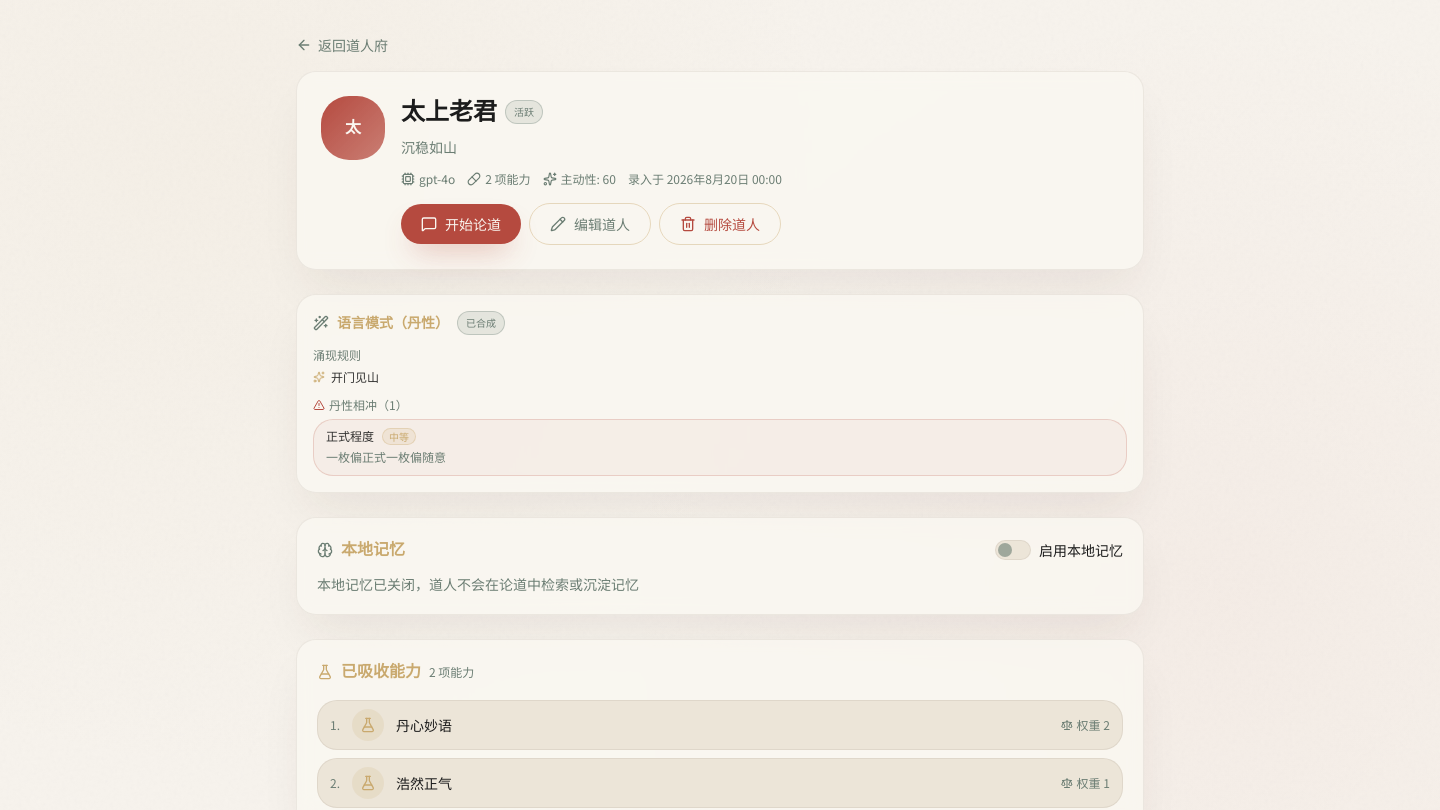
Test: AgentDetailPage › 编辑态 › 保存失败:错误反馈可重试且草稿不丢
The image size is (1440, 810).
Step 1. Click the button "编辑道人" → x=590, y=224, box [529, 203, 651, 245]
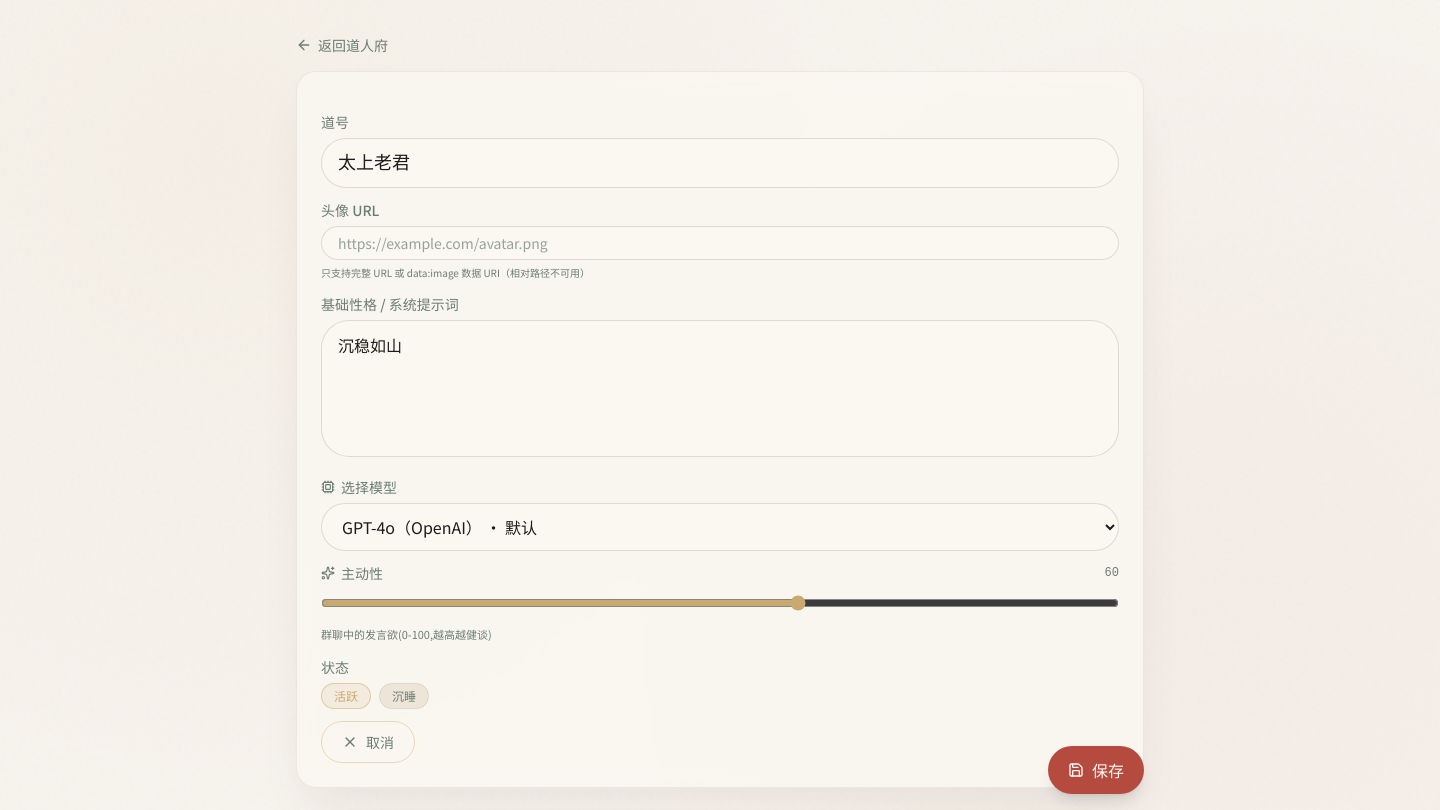
Step 2. Replace the text in the field showing "太上老君" with "新名字" → x=720, y=163, box [321, 138, 1119, 188]
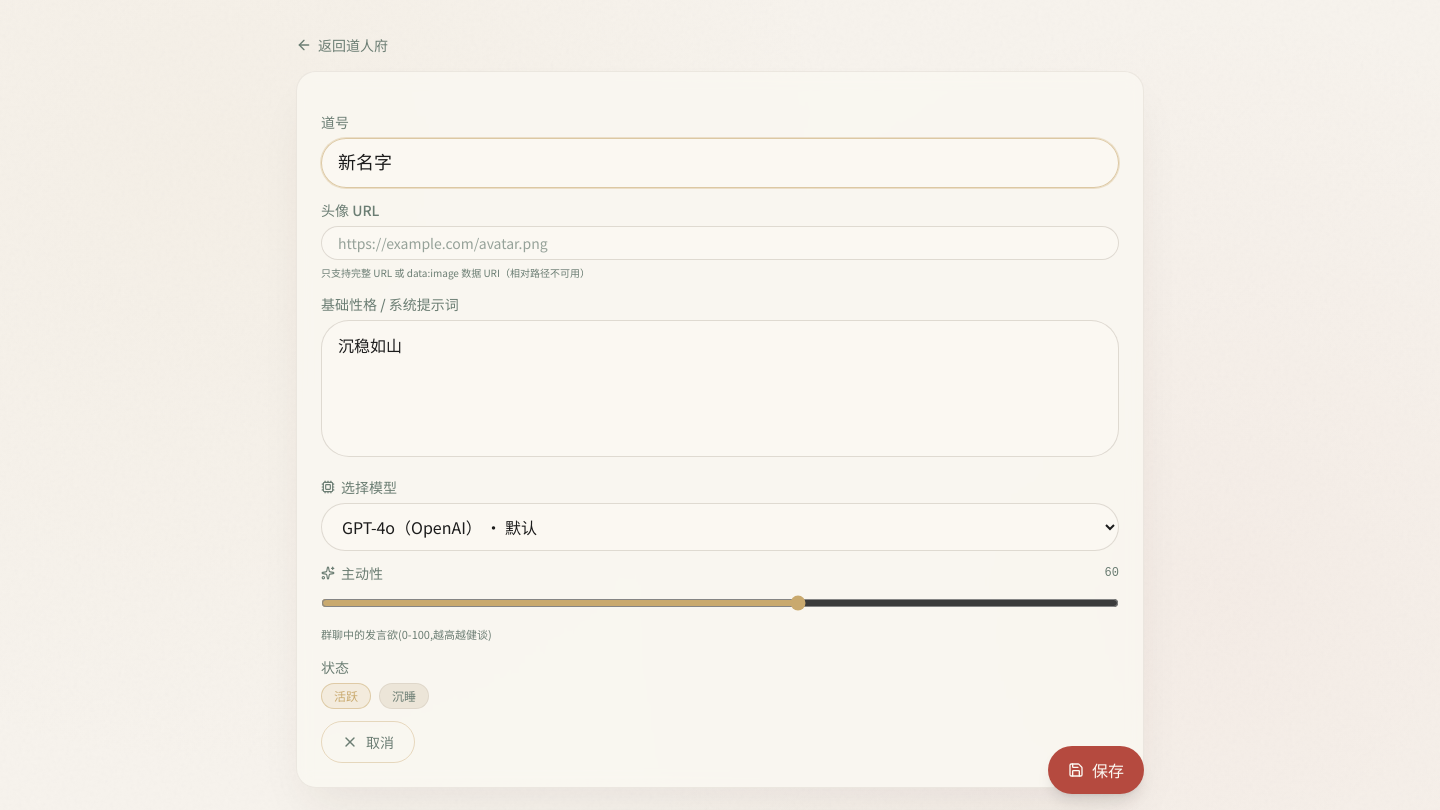
Step 3. Click the button "保存" → x=1096, y=770, box [1048, 745, 1144, 794]
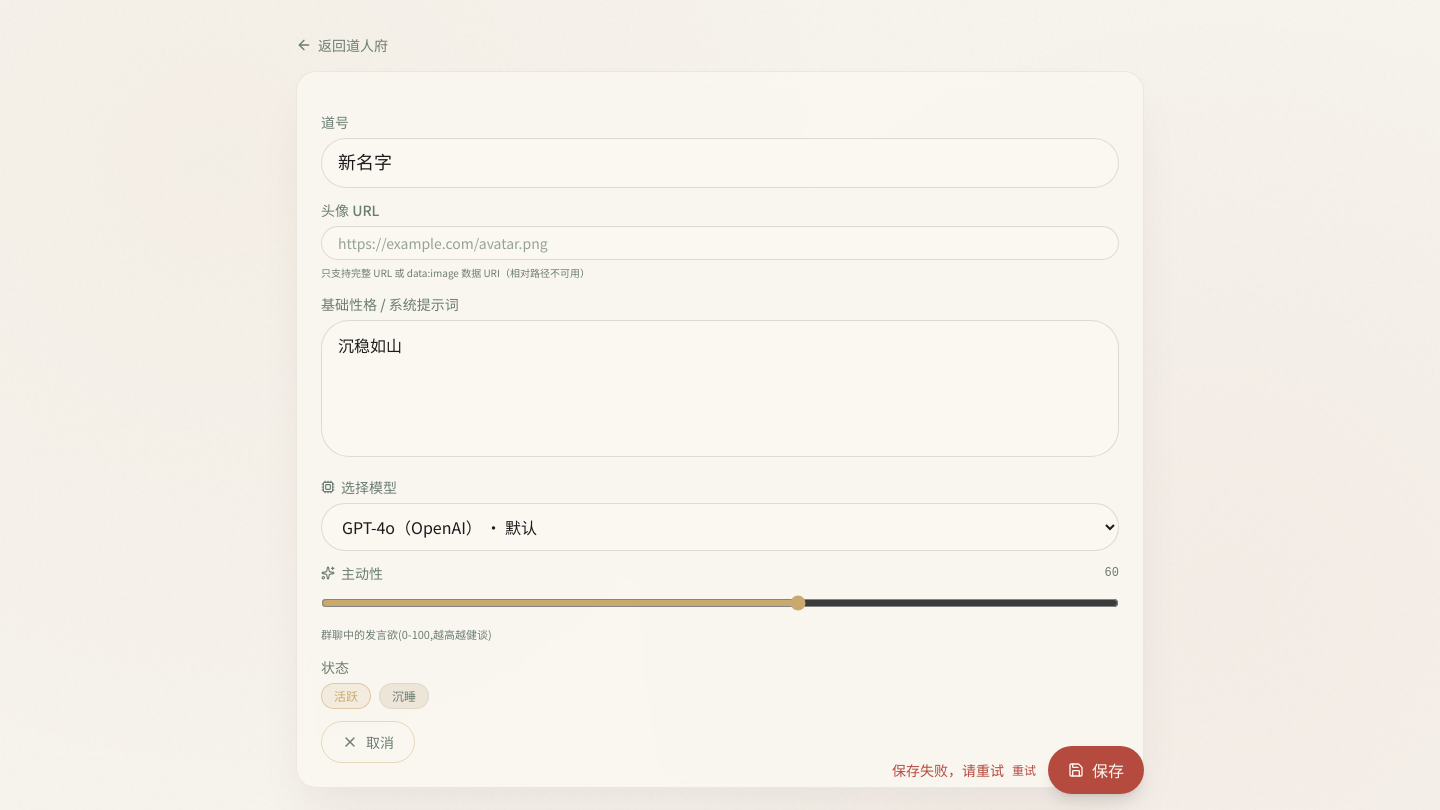
Check: the message shows "保存失败", box [892, 760, 1004, 780]
Step 4. Click the button "重试" → x=1024, y=770, box [1012, 762, 1036, 778]
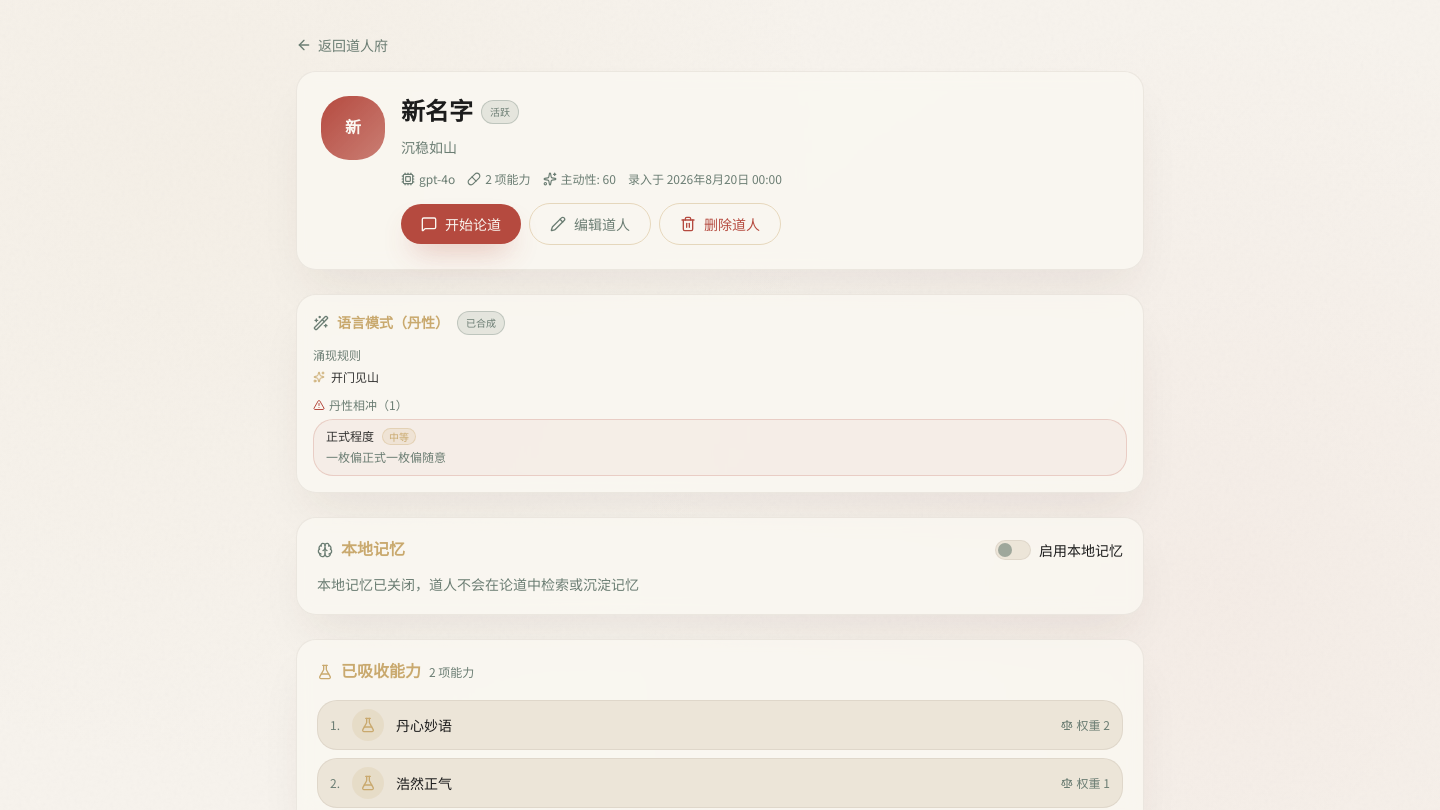
Check: the heading "新名字" is shown, box [401, 96, 473, 128]
